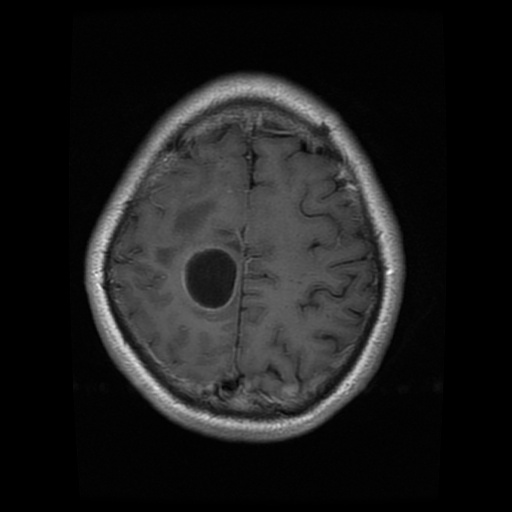glioma: (181, 243, 240, 311)
